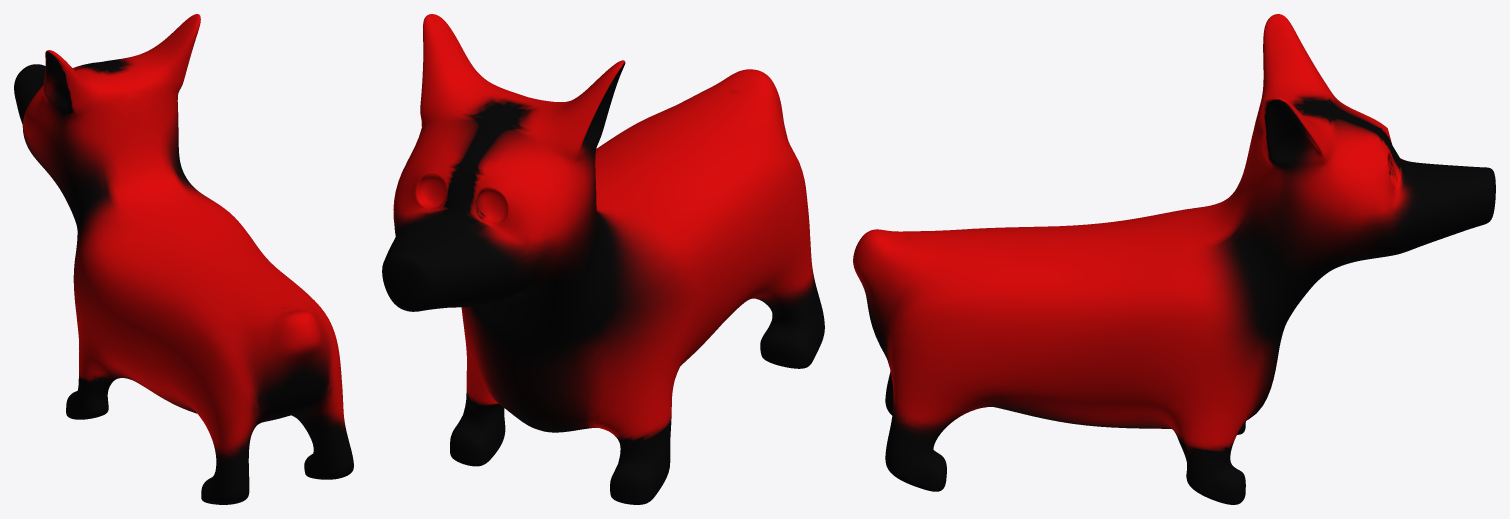
Rendered from player.fbx.
3 views of the same model, side by side, from view 1: azimuth 30°, elevation 25°; view 2: azimuth 150°, elevation 25°; view 3: azimuth 270°, elevation 25° (orthographic). The views are drawn at different scales.
Visible parts, largest first — view 1: Body; view 2: Body; view 3: Body.
Part boxes in pixels (box(x1,y1,x2,y2)): Body: box(14, 14, 353, 504); Body: box(382, 14, 824, 504); Body: box(853, 14, 1495, 504).
Size of the model in its own units: 85.37 by 184 by 261.
